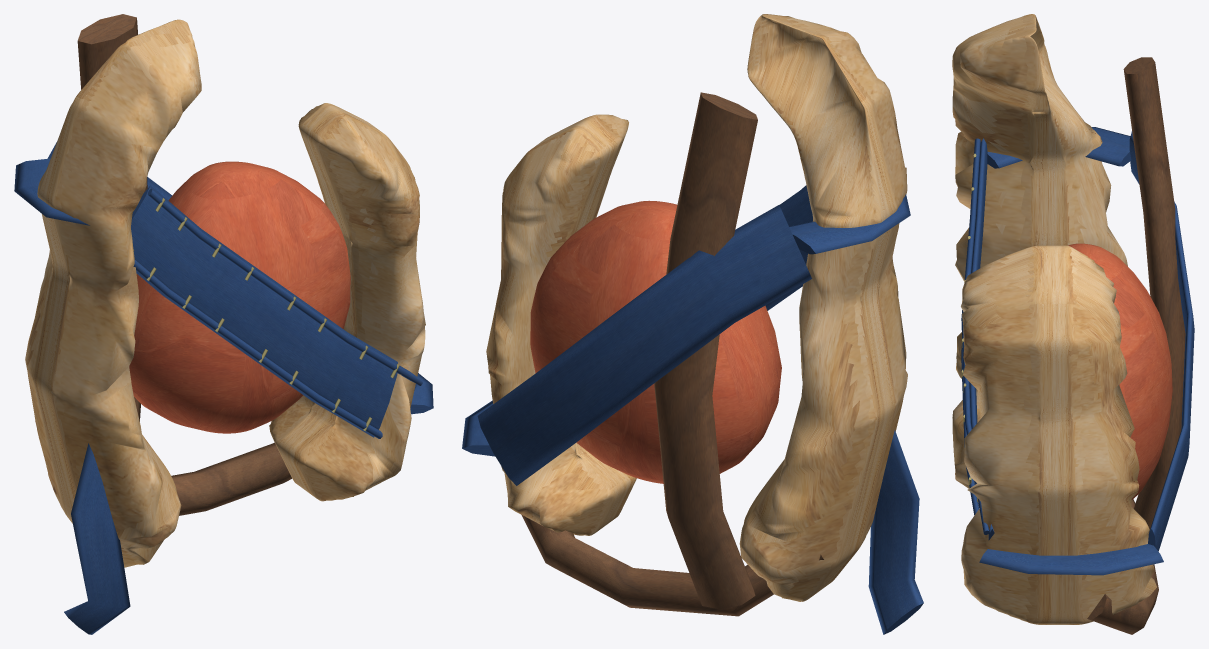
The model's file is carved_capsule_geometry.obj.
The picture shows the model from 3 angles, left to right: view 1: azimuth 30°, elevation 25°; view 2: azimuth 150°, elevation 25°; view 3: azimuth 270°, elevation 25°; orthographic projection. The views are drawn at different scales.
Visible parts, largest first — view 1: HULL_left.001_hybrid_carved_hull_outer, CORE_OrganicVolume.001_hybrid_carved_hull_core, HULL_right.001_hybrid_carved_hull_outer, BINDING_FrontDiagonal.001_hybrid_carved_hull_binding, BINDING_FoldedTail.001_hybrid_carved_hull_binding, BASE_Cradle.001_hybrid_carved_hull_spine, BINDING_Selvage_B.001_hybrid_carved_hull_binding, BACK_SupportSpine.001_hybrid_carved_hull_spine, BINDING_Selvage_A.001_hybrid_carved_hull_binding, BINDING_LeftReturn.001_hybrid_carved_hull_binding, BINDING_RightReturn.001_hybrid_carved_hull_binding; view 2: HULL_left.001_hybrid_carved_hull_outer, BINDING_BackDiagonal.001_hybrid_carved_hull_binding, CORE_OrganicVolume.001_hybrid_carved_hull_core, HULL_right.001_hybrid_carved_hull_outer, BACK_SupportSpine.001_hybrid_carved_hull_spine, BASE_Cradle.001_hybrid_carved_hull_spine, BINDING_FoldedTail.001_hybrid_carved_hull_binding, BINDING_LeftReturn.001_hybrid_carved_hull_binding, BINDING_FrontDiagonal.001_hybrid_carved_hull_binding, BINDING_RightReturn.001_hybrid_carved_hull_binding; view 3: HULL_right.001_hybrid_carved_hull_outer, HULL_left.001_hybrid_carved_hull_outer, BACK_SupportSpine.001_hybrid_carved_hull_spine, CORE_OrganicVolume.001_hybrid_carved_hull_core, BINDING_BackDiagonal.001_hybrid_carved_hull_binding, BINDING_RightReturn.001_hybrid_carved_hull_binding, BASE_Cradle.001_hybrid_carved_hull_spine, BINDING_LeftReturn.001_hybrid_carved_hull_binding, BINDING_FrontDiagonal.001_hybrid_carved_hull_binding, BINDING_Selvage_B.001_hybrid_carved_hull_binding, BINDING_Selvage_A.001_hybrid_carved_hull_binding.
Part boxes in pixels (left/top/right/bottom): HULL_left.001_hybrid_carved_hull_outer: left=25, top=19, right=201, bottom=567; CORE_OrganicVolume.001_hybrid_carved_hull_core: left=129, top=161, right=350, bottom=433; HULL_right.001_hybrid_carved_hull_outer: left=269, top=103, right=425, bottom=501; BINDING_FrontDiagonal.001_hybrid_carved_hull_binding: left=131, top=185, right=419, bottom=437; BINDING_FoldedTail.001_hybrid_carved_hull_binding: left=64, top=443, right=130, bottom=634; BASE_Cradle.001_hybrid_carved_hull_spine: left=53, top=442, right=291, bottom=515; BINDING_Selvage_B.001_hybrid_carved_hull_binding: left=147, top=188, right=423, bottom=385; BACK_SupportSpine.001_hybrid_carved_hull_spine: left=77, top=14, right=147, bottom=421; BINDING_Selvage_A.001_hybrid_carved_hull_binding: left=133, top=259, right=382, bottom=438; BINDING_LeftReturn.001_hybrid_carved_hull_binding: left=14, top=158, right=89, bottom=225; BINDING_RightReturn.001_hybrid_carved_hull_binding: left=410, top=373, right=433, bottom=414; HULL_left.001_hybrid_carved_hull_outer: left=739, top=14, right=907, bottom=601; BINDING_BackDiagonal.001_hybrid_carved_hull_binding: left=477, top=205, right=811, bottom=485; CORE_OrganicVolume.001_hybrid_carved_hull_core: left=530, top=200, right=781, bottom=483; HULL_right.001_hybrid_carved_hull_outer: left=486, top=114, right=636, bottom=535; BACK_SupportSpine.001_hybrid_carved_hull_spine: left=654, top=92, right=757, bottom=609; BASE_Cradle.001_hybrid_carved_hull_spine: left=521, top=515, right=823, bottom=616; BINDING_FoldedTail.001_hybrid_carved_hull_binding: left=868, top=430, right=923, bottom=634; BINDING_LeftReturn.001_hybrid_carved_hull_binding: left=789, top=194, right=910, bottom=254; BINDING_FrontDiagonal.001_hybrid_carved_hull_binding: left=765, top=185, right=812, bottom=310; BINDING_RightReturn.001_hybrid_carved_hull_binding: left=462, top=400, right=495, bottom=456; HULL_right.001_hybrid_carved_hull_outer: left=961, top=245, right=1156, bottom=624; HULL_left.001_hybrid_carved_hull_outer: left=952, top=14, right=1133, bottom=506; BACK_SupportSpine.001_hybrid_carved_hull_spine: left=1123, top=57, right=1185, bottom=529; CORE_OrganicVolume.001_hybrid_carved_hull_core: left=1068, top=243, right=1172, bottom=499; BINDING_BackDiagonal.001_hybrid_carved_hull_binding: left=1129, top=131, right=1194, bottom=565; BINDING_RightReturn.001_hybrid_carved_hull_binding: left=979, top=544, right=1163, bottom=575; BASE_Cradle.001_hybrid_carved_hull_spine: left=1087, top=499, right=1158, bottom=634; BINDING_LeftReturn.001_hybrid_carved_hull_binding: left=987, top=127, right=1131, bottom=168; BINDING_FrontDiagonal.001_hybrid_carved_hull_binding: left=969, top=138, right=994, bottom=540; BINDING_Selvage_B.001_hybrid_carved_hull_binding: left=961, top=138, right=989, bottom=534; BINDING_Selvage_A.001_hybrid_carved_hull_binding: left=961, top=346, right=978, bottom=515.
Size of the model in its own units: 2.52 by 3.59 by 1.37.
5 materials, 4 textured.
